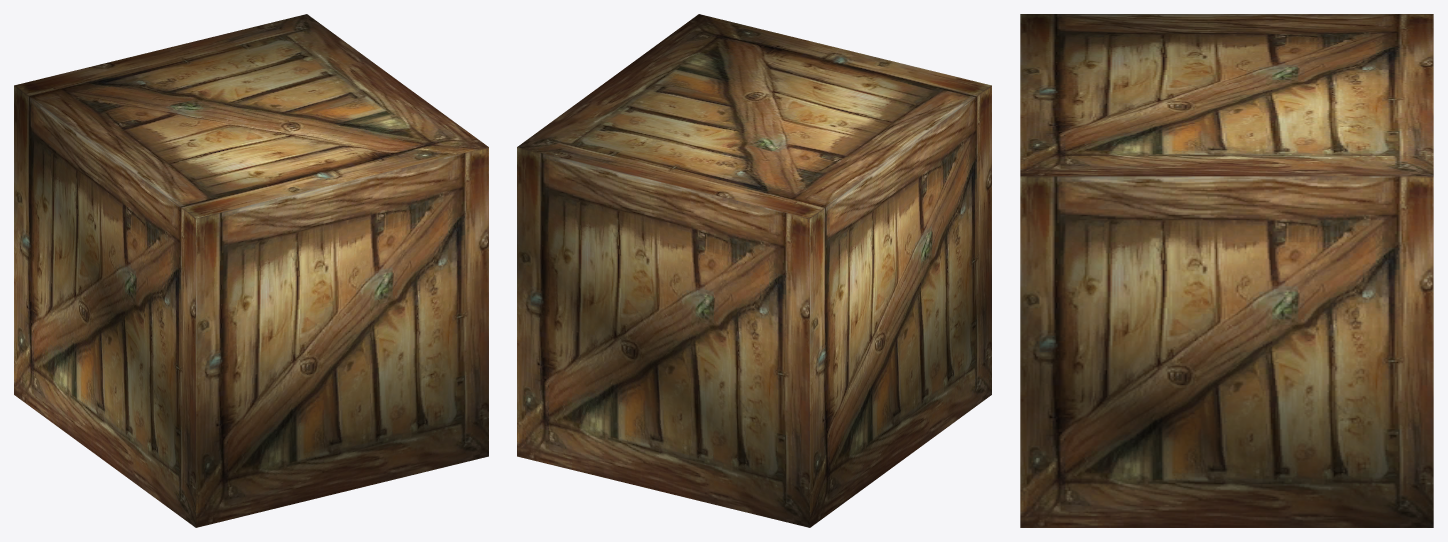
Rendered from stormwindcrate01.glb.
The picture shows the model from 3 angles, left to right: view 1: azimuth 30°, elevation 25°; view 2: azimuth 150°, elevation 25°; view 3: azimuth 270°, elevation 25°; orthographic projection. The views are drawn at different scales.
Bounding box in the file's own units: 1.23 × 1.24 × 1.32.
Materials: 1 (1 with a texture image).
